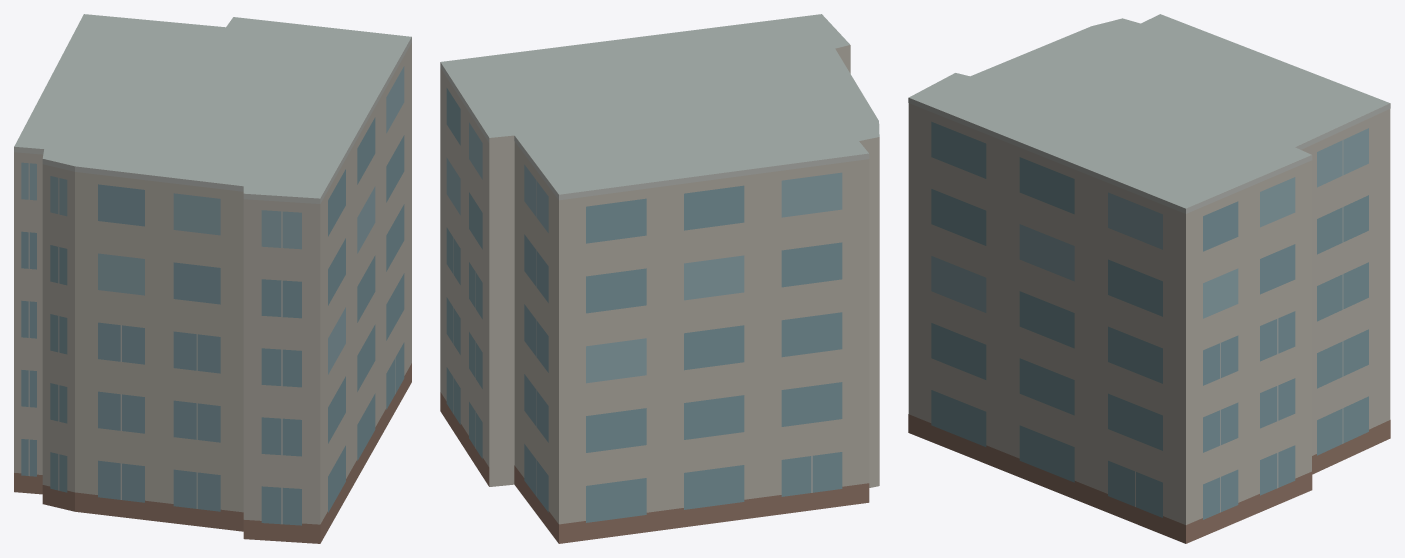
The model's file is survey-upis-32775717.glb.
3 renders of one model, left to right at view 1: azimuth 30°, elevation 25°; view 2: azimuth 150°, elevation 25°; view 3: azimuth 270°, elevation 25°, orthographic. The views are drawn at different scales.
Parts seen in each view (by area): view 1: survey-upis-32775717.tmp; view 2: survey-upis-32775717.tmp; view 3: survey-upis-32775717.tmp.
Part boxes in pixels (x1,y1,x2,y2): survey-upis-32775717.tmp: (14, 14, 411, 543); survey-upis-32775717.tmp: (440, 14, 879, 543); survey-upis-32775717.tmp: (908, 14, 1390, 543).
Size of the model in its own units: 19 by 15.25 by 19.87.
